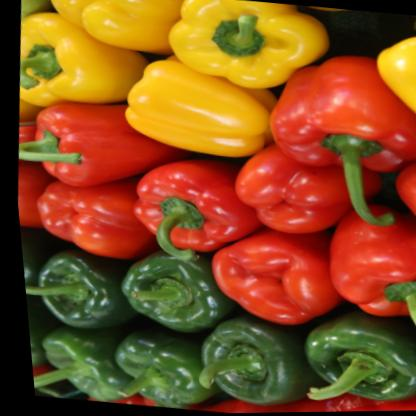bell_pepper: (98, 59, 290, 163), (9, 5, 147, 124), (108, 159, 259, 264), (159, 0, 336, 88), (115, 250, 219, 348), (17, 239, 123, 330)
